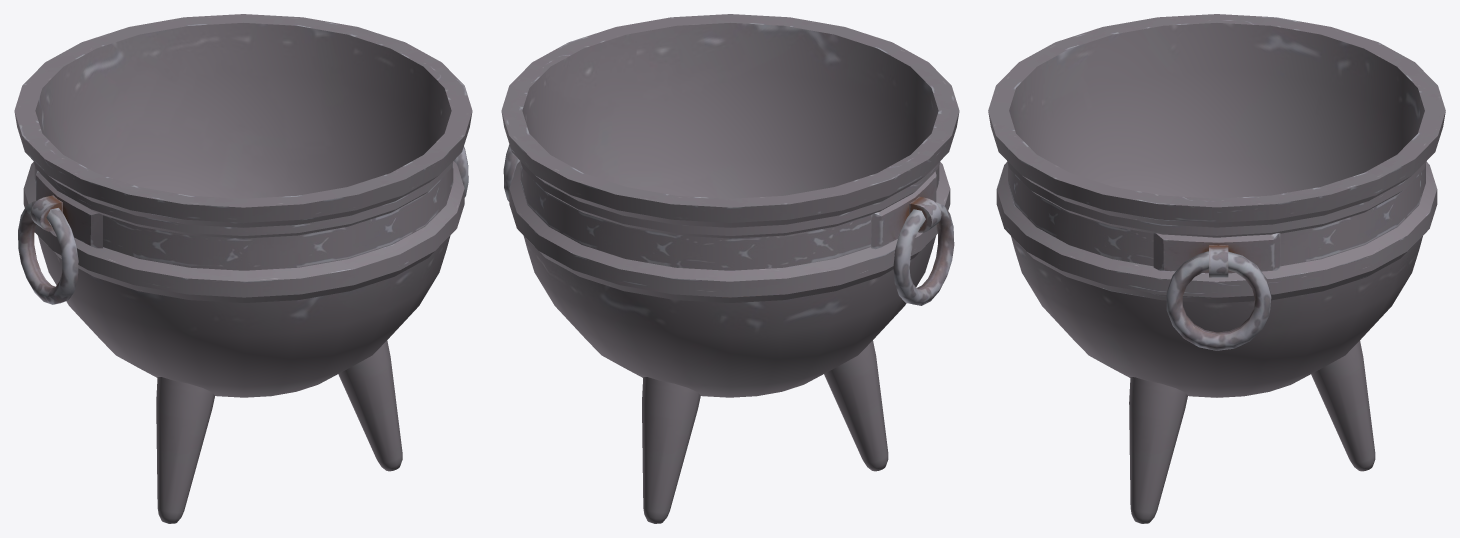
Rendered from Cauldron.gltf.
The picture shows the model from 3 angles, left to right: view 1: azimuth 30°, elevation 25°; view 2: azimuth 150°, elevation 25°; view 3: azimuth 270°, elevation 25°; orthographic projection.
Visible parts, largest first — view 1: Cauldron; view 2: Cauldron; view 3: Cauldron.
Part boxes in pixels (left/top/right/bottom): Cauldron: left=14, top=14, right=472, bottom=523; Cauldron: left=501, top=14, right=959, bottom=523; Cauldron: left=988, top=14, right=1445, bottom=523.
Bounding box in the file's own units: 0.9891 × 0.8155 × 0.944.
1 material, 1 textured.
